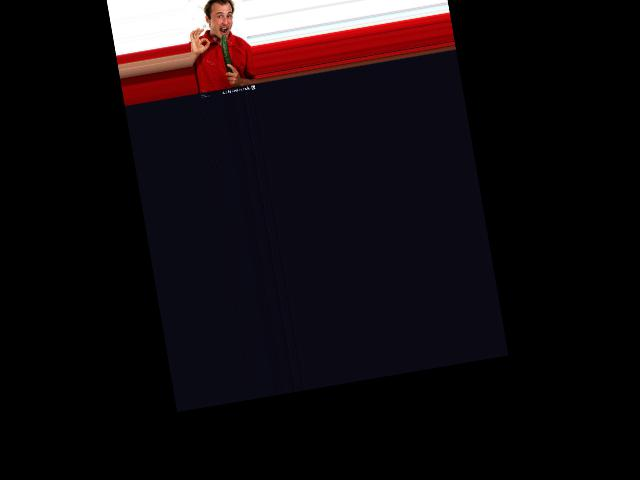cucumber: (220, 34, 232, 73)
